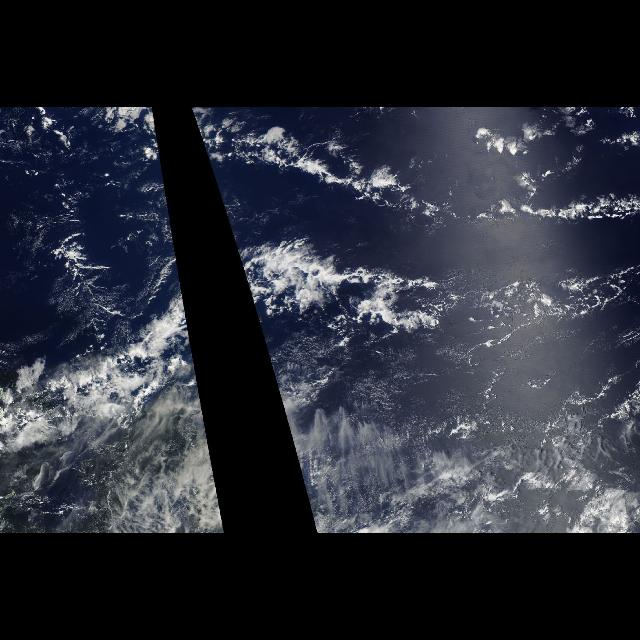Fish: (227, 123, 639, 350)
